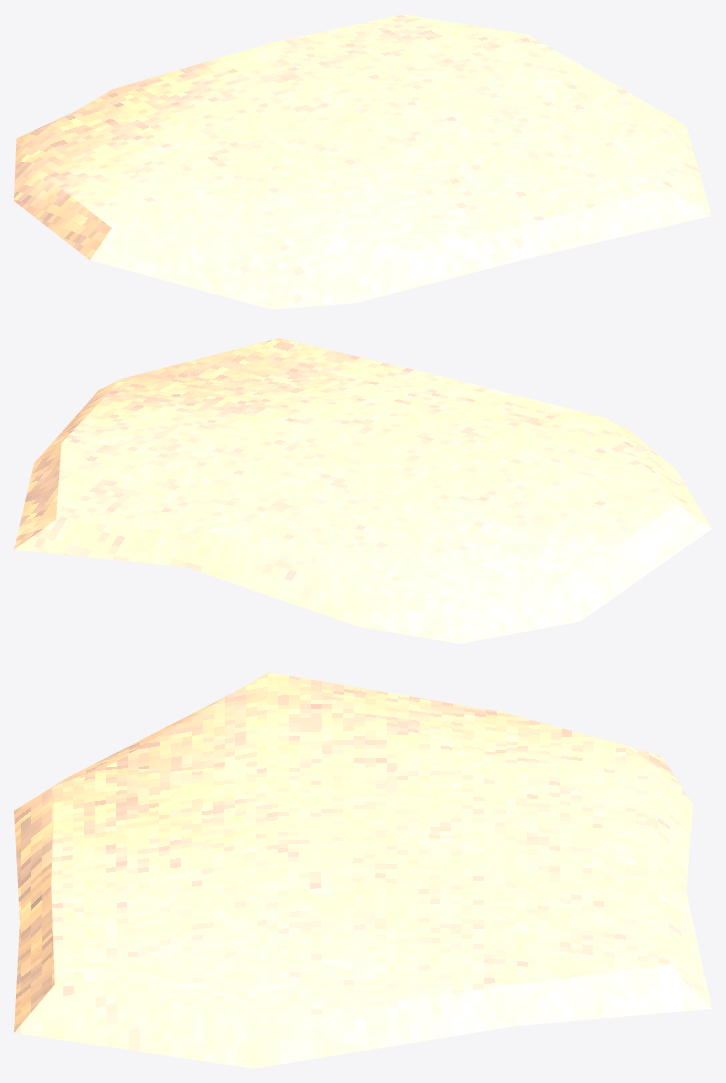
The model's file is Terrain_Var6.glb.
3 renders of one model, top to bottom at view 1: azimuth 30°, elevation 25°; view 2: azimuth 150°, elevation 25°; view 3: azimuth 270°, elevation 25°, orthographic. The views are drawn at different scales.
Visible parts, largest first — view 1: Terrain_Variant_6; view 2: Terrain_Variant_6; view 3: Terrain_Variant_6.
Part boxes in pixels (box(x1,y1,x2,y2)): Terrain_Variant_6: box(14, 14, 711, 309); Terrain_Variant_6: box(14, 338, 711, 643); Terrain_Variant_6: box(14, 672, 711, 1068).
Bounding box in the file's own units: 6.08 × 0.5304 × 4.81.
